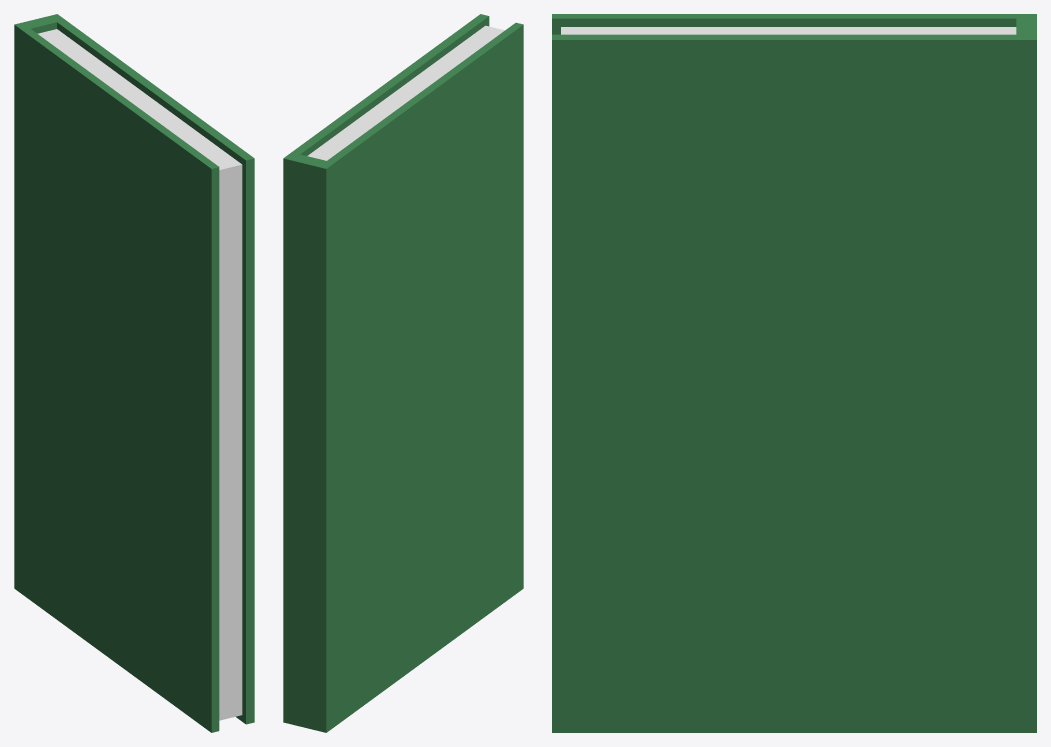
Rendered from Livre.fbx.
3 views of the same model, side by side, from view 1: azimuth 30°, elevation 25°; view 2: azimuth 150°, elevation 25°; view 3: azimuth 270°, elevation 25° (orthographic). The views are drawn at different scales.
Visible parts, largest first — view 1: Livre; view 2: Livre; view 3: Livre.
Part boxes in pixels (left/top/right/bottom): Livre: left=14, top=14, right=254, bottom=732; Livre: left=283, top=14, right=523, bottom=732; Livre: left=552, top=14, right=1036, bottom=732.
Bounding box in the file's own units: 1.82 × 22.71 × 14.4.
